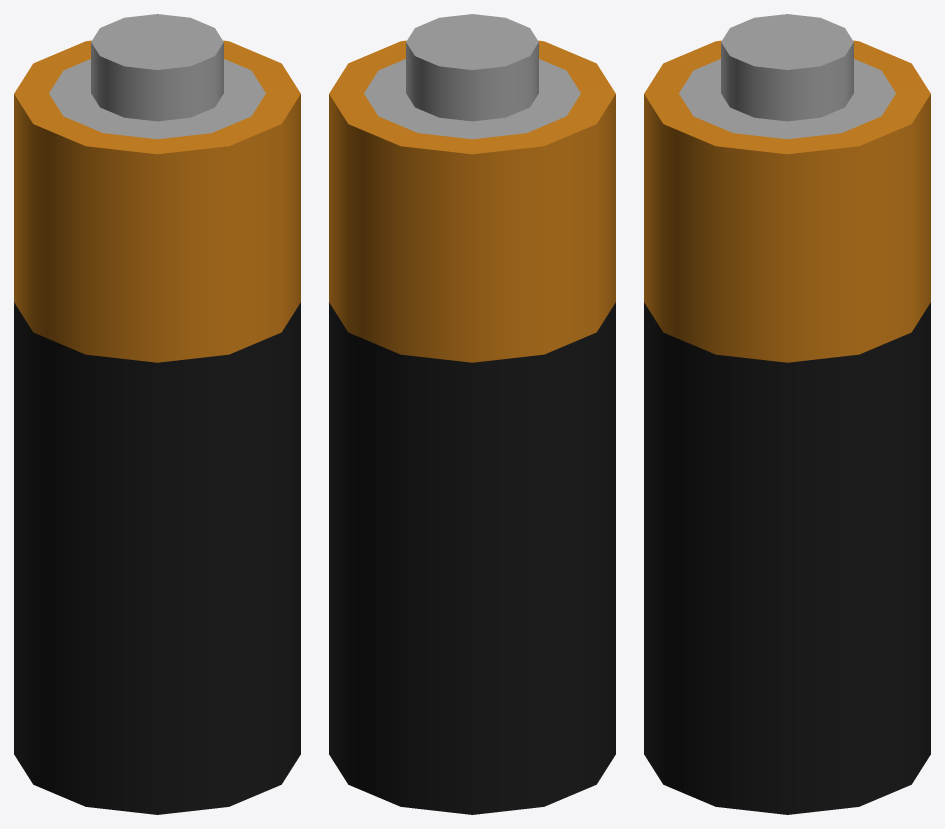
The model's file is Battery.fbx.
The picture shows the model from 3 angles, left to right: view 1: azimuth 30°, elevation 25°; view 2: azimuth 150°, elevation 25°; view 3: azimuth 270°, elevation 25°; orthographic projection.
Visible parts, largest first — view 1: batteryTop; view 2: batteryTop; view 3: batteryTop.
Boxes of the visible parts, left/top/right/bottom form: batteryTop: left=14, top=14, right=300, bottom=814; batteryTop: left=329, top=14, right=615, bottom=814; batteryTop: left=644, top=14, right=930, bottom=814.
Size of the model in its own units: 11.94 by 32.96 by 11.94.
